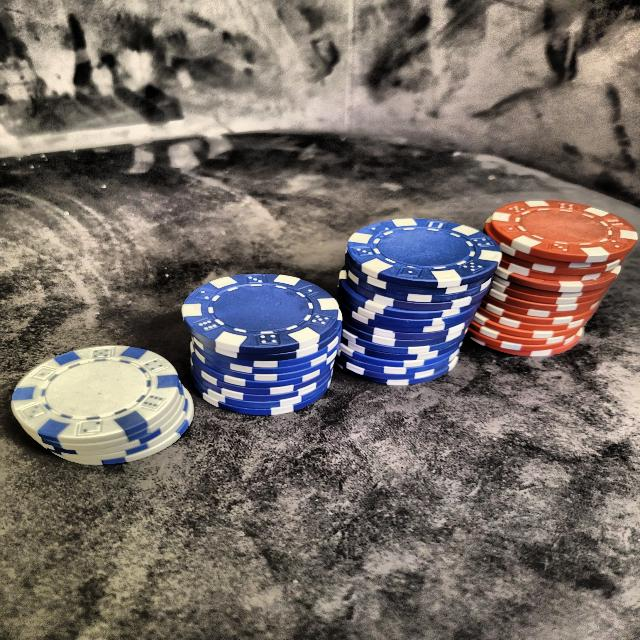Chip: (474, 167, 626, 370), (333, 199, 487, 397), (187, 252, 341, 421), (26, 327, 195, 472)
